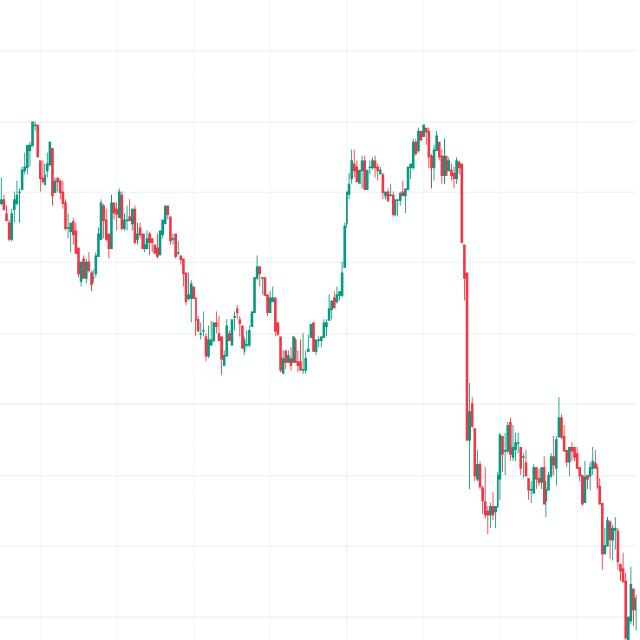Triple-Bottom: (182, 301, 265, 372)
